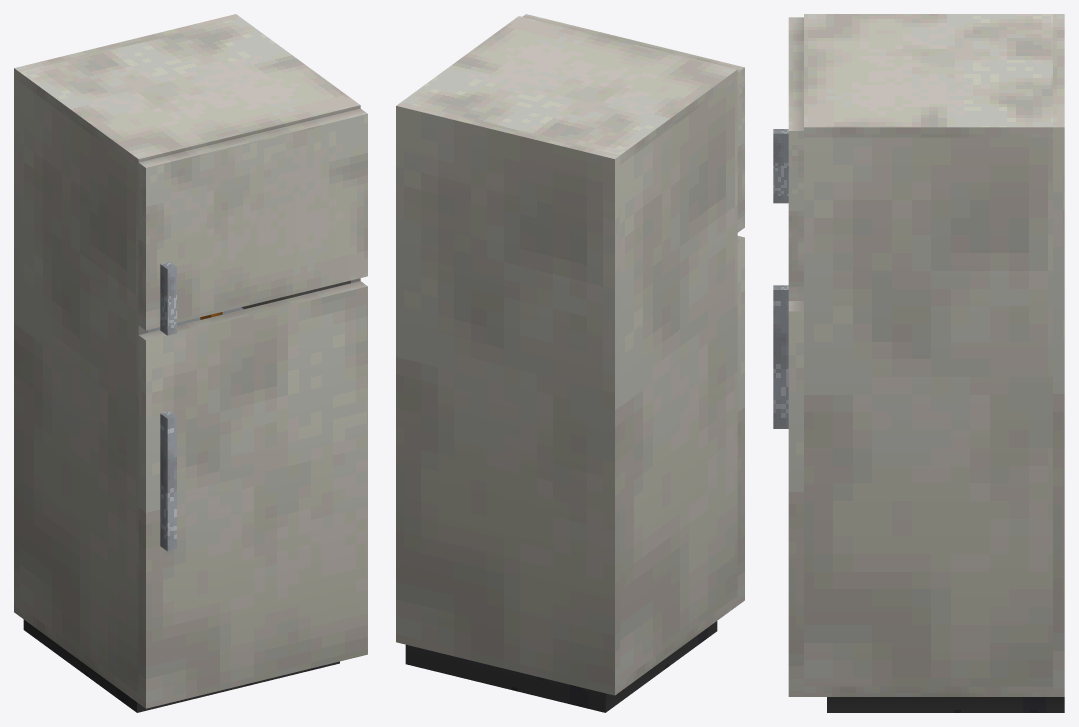
Rendered from fridge_white.glb.
3 views of the same model, side by side, from view 1: azimuth 30°, elevation 25°; view 2: azimuth 150°, elevation 25°; view 3: azimuth 270°, elevation 25° (orthographic). The views are drawn at different scales.
Visible parts, largest first — view 1: fridge_white, fridge_white_door; view 2: fridge_white, fridge_white_door; view 3: fridge_white, fridge_white_door.
Boxes of the visible parts, x1=… form: fridge_white: x1=14, y1=14, x2=367, y2=712; fridge_white_door: x1=138, y1=281, x2=367, y2=708; fridge_white: x1=396, y1=14, x2=744, y2=712; fridge_white_door: x1=737, y1=236, x2=744, y2=605; fridge_white: x1=773, y1=14, x2=1064, y2=712; fridge_white_door: x1=773, y1=285, x2=803, y2=696.
Bounding box in the file's own units: 0.7 × 1.7 × 0.76.
2 materials, 2 textured.
